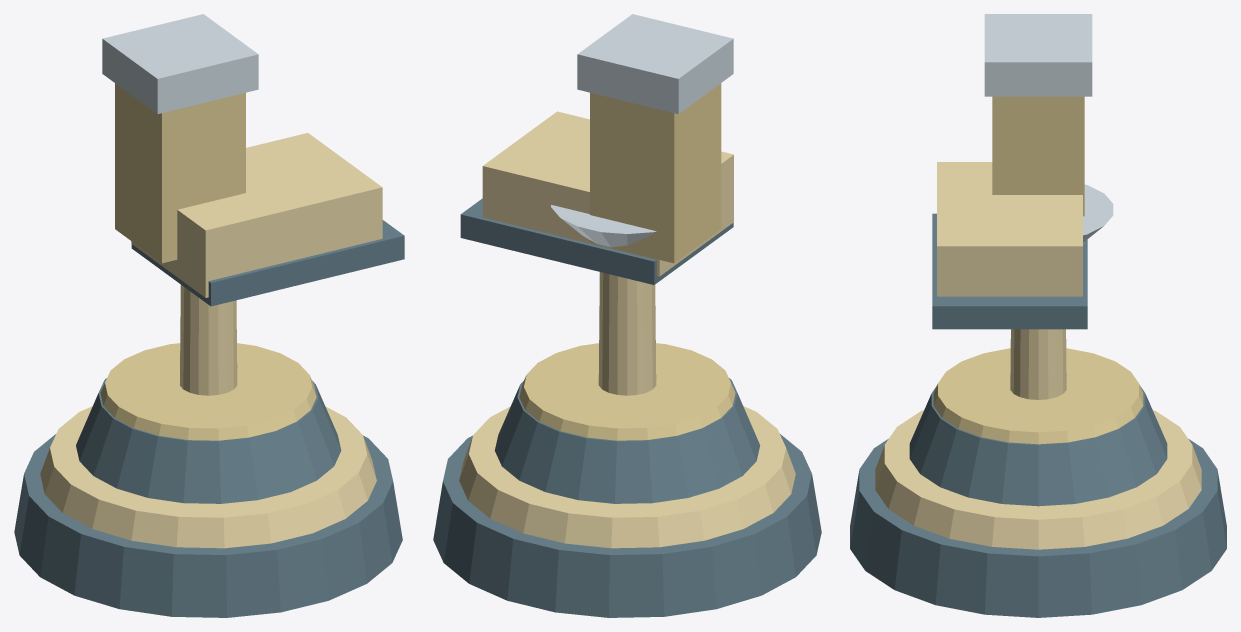
File: golden-boot.glb
The picture shows the model from 3 angles, left to right: view 1: azimuth 30°, elevation 25°; view 2: azimuth 150°, elevation 25°; view 3: azimuth 270°, elevation 25°; orthographic projection. The views are drawn at different scales.
Bounding box in the file's own units: 1.2 × 1.69 × 1.19.
